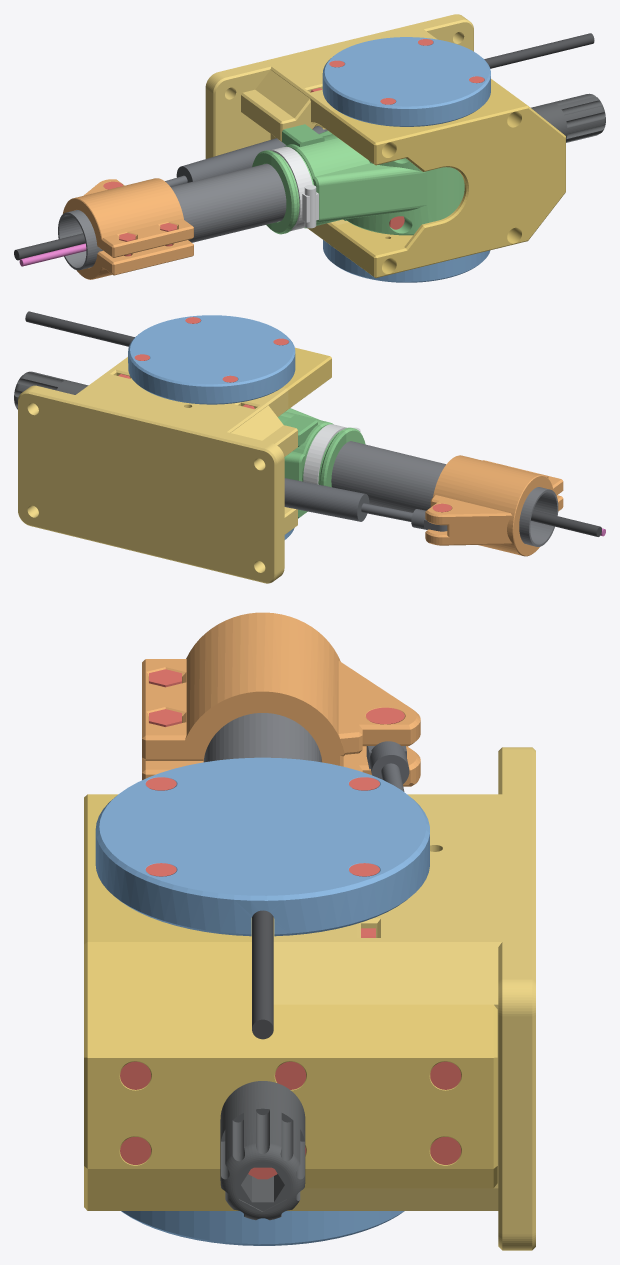
The model's file is MkIII_Rev4_Assembly.glb.
The picture shows the model from 3 angles, top to bottom: view 1: azimuth 30°, elevation 25°; view 2: azimuth 150°, elevation 25°; view 3: azimuth 270°, elevation 25°; orthographic projection. The views are drawn at different scales.
Parts seen in each view (by area): view 1: shell, cover_cable, frame, lever_upper, strut_collar, carbon_tube, friction_knob, cover_sensor, usb_cable, gas_strut, hose_clamp, back_plate (+4 smaller); view 2: frame, cover_cable, strut_collar, carbon_tube, gas_strut, lever_lower, usb_cable, shell, hose_clamp, friction_knob, lever_upper, hardware; view 3: back_plate, frame, cover_cable, strut_collar, shell, friction_knob, cover_sensor, hardware, carbon_tube, usb_cable, gas_strut, strut_pins.
Part boxes in pixels (bbox=[...]): shell: bbox=[330, 79, 549, 278]; cover_cable: bbox=[322, 37, 490, 126]; frame: bbox=[205, 14, 473, 244]; lever_upper: bbox=[271, 138, 464, 235]; strut_collar: bbox=[63, 178, 193, 279]; carbon_tube: bbox=[58, 163, 286, 270]; friction_knob: bbox=[531, 93, 605, 142]; cover_sensor: bbox=[323, 240, 490, 282]; usb_cable: bbox=[14, 33, 594, 260]; gas_strut: bbox=[165, 126, 327, 186]; hose_clamp: bbox=[270, 146, 318, 231]; back_plate: bbox=[548, 122, 565, 213]; frame: bbox=[18, 357, 297, 583]; cover_cable: bbox=[128, 315, 295, 404]; strut_collar: bbox=[425, 455, 563, 556]; carbon_tube: bbox=[331, 441, 558, 546]; gas_strut: bbox=[284, 478, 447, 531]; lever_lower: bbox=[278, 415, 346, 518]; usb_cable: bbox=[25, 311, 601, 536]; shell: bbox=[283, 347, 331, 408]; hose_clamp: bbox=[303, 424, 360, 484]; friction_knob: bbox=[14, 371, 88, 409]; lever_upper: bbox=[280, 408, 365, 444]; hardware: bbox=[118, 317, 288, 409]; back_plate: bbox=[84, 1004, 497, 1188]; frame: bbox=[273, 747, 535, 1250]; cover_cable: bbox=[95, 757, 429, 936]; strut_collar: bbox=[142, 612, 420, 786]; shell: bbox=[84, 794, 251, 1210]; friction_knob: bbox=[220, 1081, 305, 1220]; cover_sensor: bbox=[121, 1211, 404, 1245]; hardware: bbox=[120, 777, 461, 1179]; carbon_tube: bbox=[204, 713, 321, 762]; usb_cable: bbox=[252, 910, 273, 1039]; gas_strut: bbox=[366, 741, 409, 791]; strut_pins: bbox=[149, 669, 404, 726].
Size of the model in its own units: 283 by 82 by 96.
